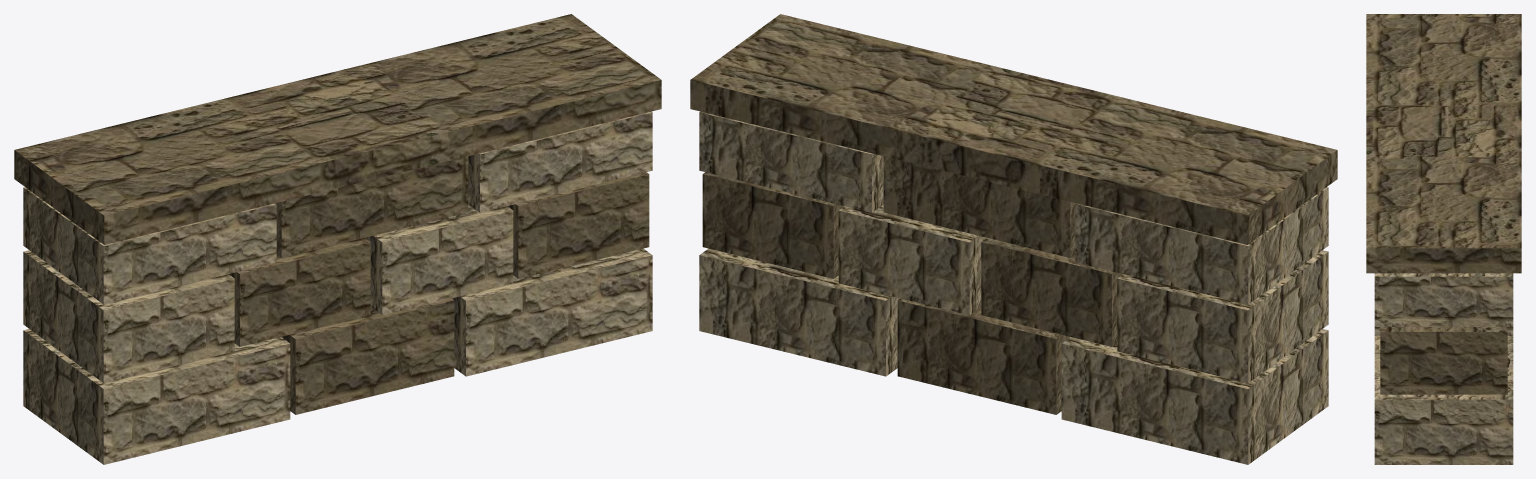
The model's file is low_stone_wall_01.glb.
3 renders of one model, left to right at view 1: azimuth 30°, elevation 25°; view 2: azimuth 150°, elevation 25°; view 3: azimuth 270°, elevation 25°, orthographic. The views are drawn at different scales.
Visible parts, largest first — view 1: low_stone_wall_01; view 2: low_stone_wall_01; view 3: low_stone_wall_01.
Boxes of the visible parts, bbox=[...] form: low_stone_wall_01: bbox=[14, 14, 661, 464]; low_stone_wall_01: bbox=[690, 14, 1337, 464]; low_stone_wall_01: bbox=[1366, 14, 1521, 464].
Bounding box in the file's own units: 2 × 0.87 × 0.5599.
Materials: 2 (2 with a texture image).
